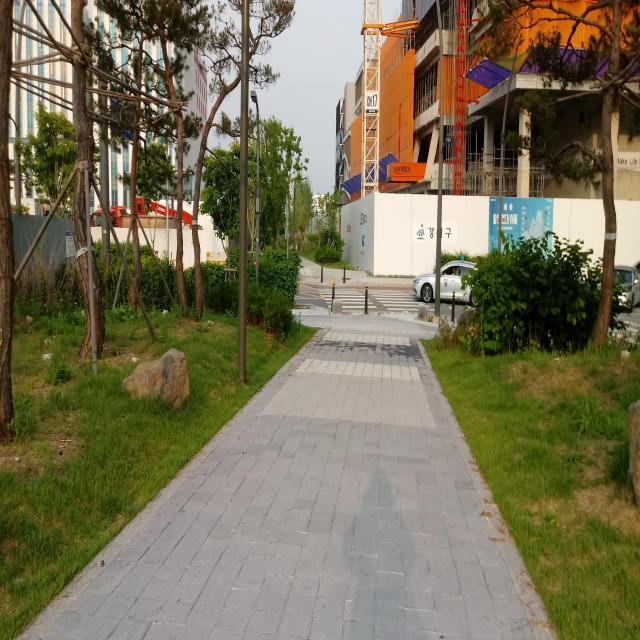횡단보도: (317, 288, 435, 312)
